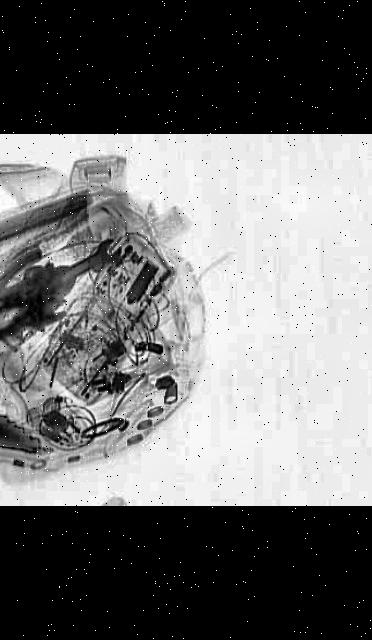Wrench: (47, 236, 135, 288)
